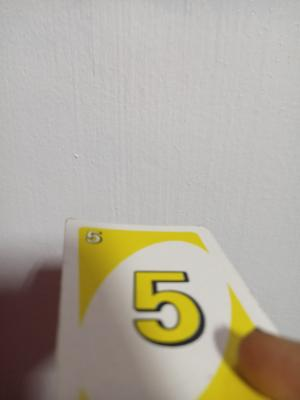num_5: (129, 258, 216, 366)
yellow: (78, 229, 120, 279)
